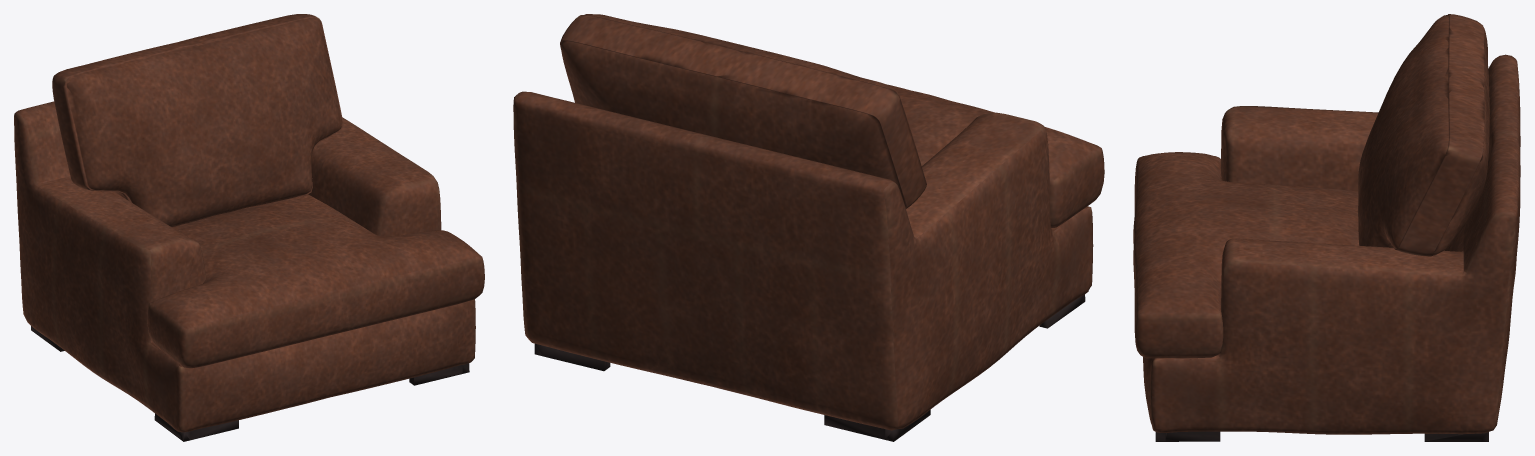
3 views of the same model, side by side, from view 1: azimuth 30°, elevation 25°; view 2: azimuth 150°, elevation 25°; view 3: azimuth 270°, elevation 25° (orthographic). The views are drawn at different scales.
Visible parts, largest first — view 1: RootNode; view 2: RootNode; view 3: RootNode.
Part boxes in pixels (x1,y1,x2,y2): RootNode: [14, 14, 484, 441]; RootNode: [513, 14, 1104, 441]; RootNode: [1133, 14, 1520, 441].
Bounding box in the file's own units: 1.18 × 0.95 × 1.16.
1 material, 1 textured.
